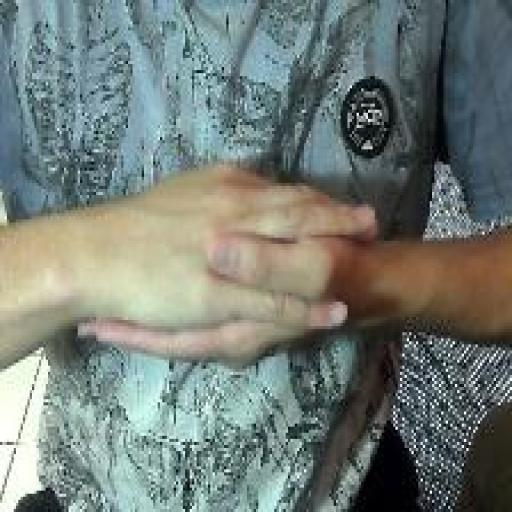Saru -monkey-: (74, 154, 383, 379)
